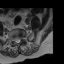CCS_severe_stenosis: (17, 37, 19, 44)
LFS_severe_stenosis: (20, 36, 22, 41)
LLS_normal: (19, 37, 20, 43)
RFS_stenosis: (13, 37, 15, 43)
RLS_normal: (15, 38, 17, 44)
